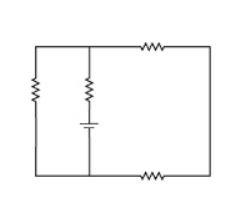resistor: (72, 67, 101, 106), (130, 35, 171, 60), (131, 165, 170, 187), (27, 66, 48, 105)
